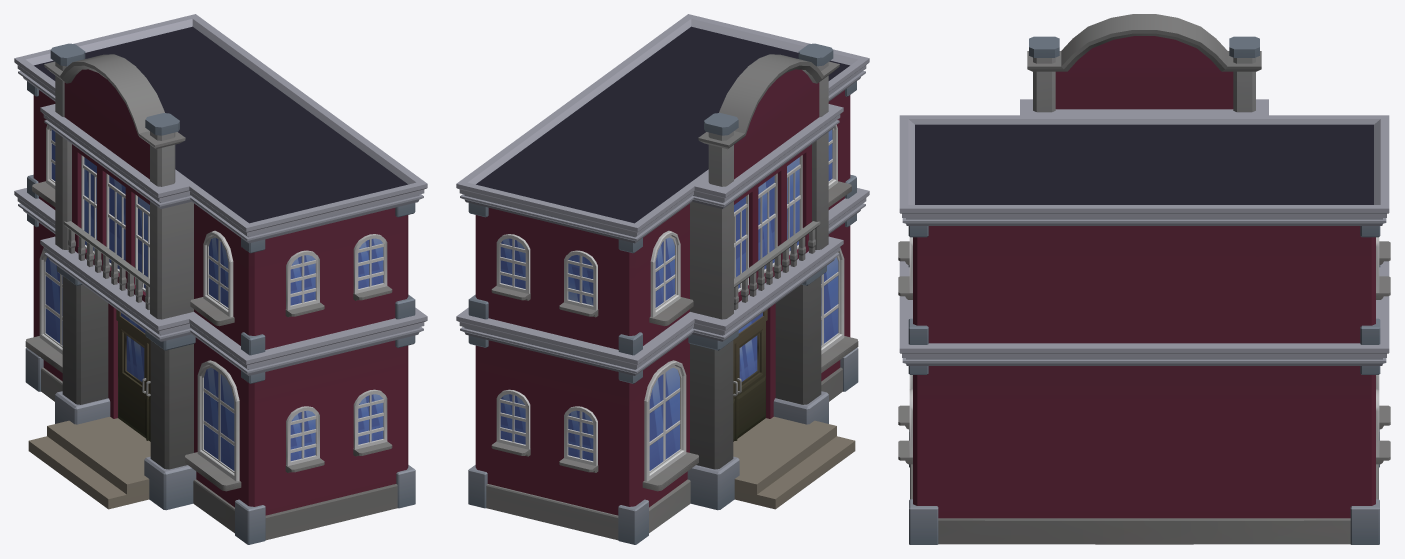
File: Building_24_E.fbx
3 renders of one model, left to right at view 1: azimuth 30°, elevation 25°; view 2: azimuth 150°, elevation 25°; view 3: azimuth 270°, elevation 25°, orthographic. The views are drawn at different scales.
Visible parts, largest first — view 1: Building_24_E; view 2: Building_24_E; view 3: Building_24_E.
Boxes of the visible parts, bbox=[...] form: Building_24_E: bbox=[14, 14, 427, 544]; Building_24_E: bbox=[456, 14, 869, 544]; Building_24_E: bbox=[898, 14, 1390, 544].
Bounding box in the file's own units: 535 × 847 × 888.
